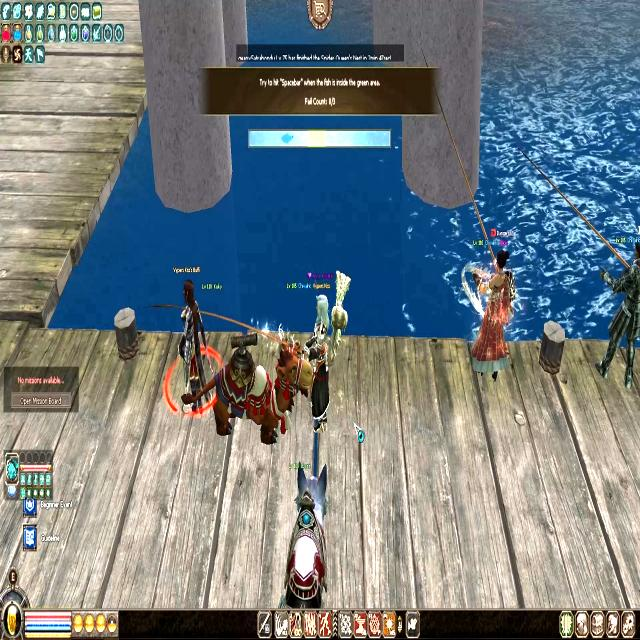fishes: (281, 130, 294, 146)
